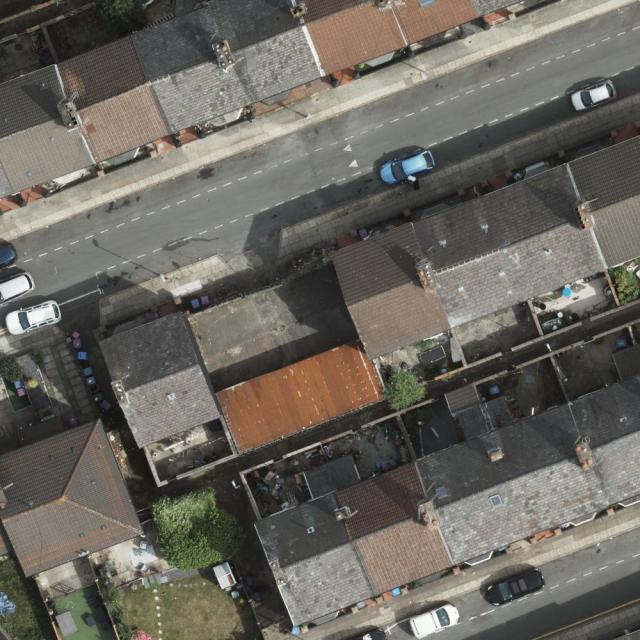roof: (0, 0, 527, 198), (254, 375, 640, 628), (332, 134, 640, 360), (0, 421, 144, 578), (97, 312, 221, 451)
skylight: (490, 494, 503, 509), (436, 485, 449, 498), (420, 0, 437, 9)
